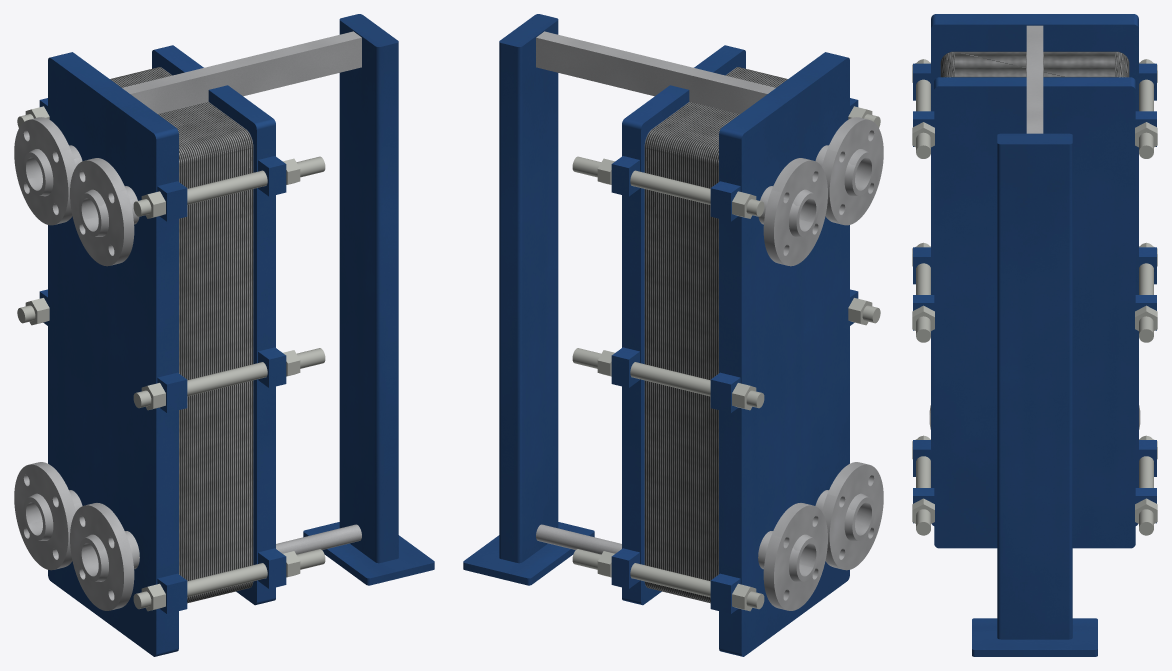
Rendered from plate-exchanger.glb.
The picture shows the model from 3 angles, left to right: view 1: azimuth 30°, elevation 25°; view 2: azimuth 150°, elevation 25°; view 3: azimuth 270°, elevation 25°; orthographic projection. The views are drawn at different scales.
Visible parts, largest first — view 1: Frame plate, Support column, Plate pack, Port connections, Pressure plate, Carrying bar, Tightening bolts, Tightening nuts, Guiding bar; view 2: Frame plate, Support column, Plate pack, Port connections, Pressure plate, Carrying bar, Tightening bolts, Tightening nuts, Guiding bar; view 3: Pressure plate, Support column, Frame plate, Tightening bolts, Plate pack, Tightening nuts, Carrying bar.
Boxes of the visible parts, x1=… form: Frame plate: x1=39, y1=52, x2=187, y2=656; Support column: x1=303, y1=14, x2=434, y2=585; Plate pack: x1=110, y1=67, x2=253, y2=603; Port connections: x1=14, y1=117, x2=139, y2=610; Pressure plate: x1=152, y1=45, x2=286, y2=605; Carrying bar: x1=122, y1=31, x2=361, y2=113; Tightening bolts: x1=17, y1=114, x2=325, y2=609; Tightening nuts: x1=25, y1=106, x2=300, y2=611; Guiding bar: x1=276, y1=524, x2=361, y2=554; Frame plate: x1=710, y1=52, x2=858, y2=656; Support column: x1=463, y1=14, x2=594, y2=585; Plate pack: x1=644, y1=67, x2=787, y2=603; Port connections: x1=758, y1=117, x2=883, y2=610; Pressure plate: x1=611, y1=45, x2=745, y2=605; Carrying bar: x1=536, y1=31, x2=775, y2=113; Tightening bolts: x1=572, y1=114, x2=880, y2=609; Tightening nuts: x1=597, y1=106, x2=872, y2=611; Guiding bar: x1=536, y1=524, x2=621, y2=554; Pressure plate: x1=913, y1=77, x2=1156, y2=548; Support column: x1=972, y1=133, x2=1097, y2=656; Frame plate: x1=913, y1=14, x2=1156, y2=525; Tightening bolts: x1=916, y1=59, x2=1153, y2=535; Plate pack: x1=940, y1=51, x2=1129, y2=77; Tightening nuts: x1=912, y1=59, x2=1157, y2=523; Carrying bar: x1=1026, y1=25, x2=1043, y2=133.
Size of the model in its own units: 0.6 by 0.88 by 0.39.
5 materials, 5 textured.
